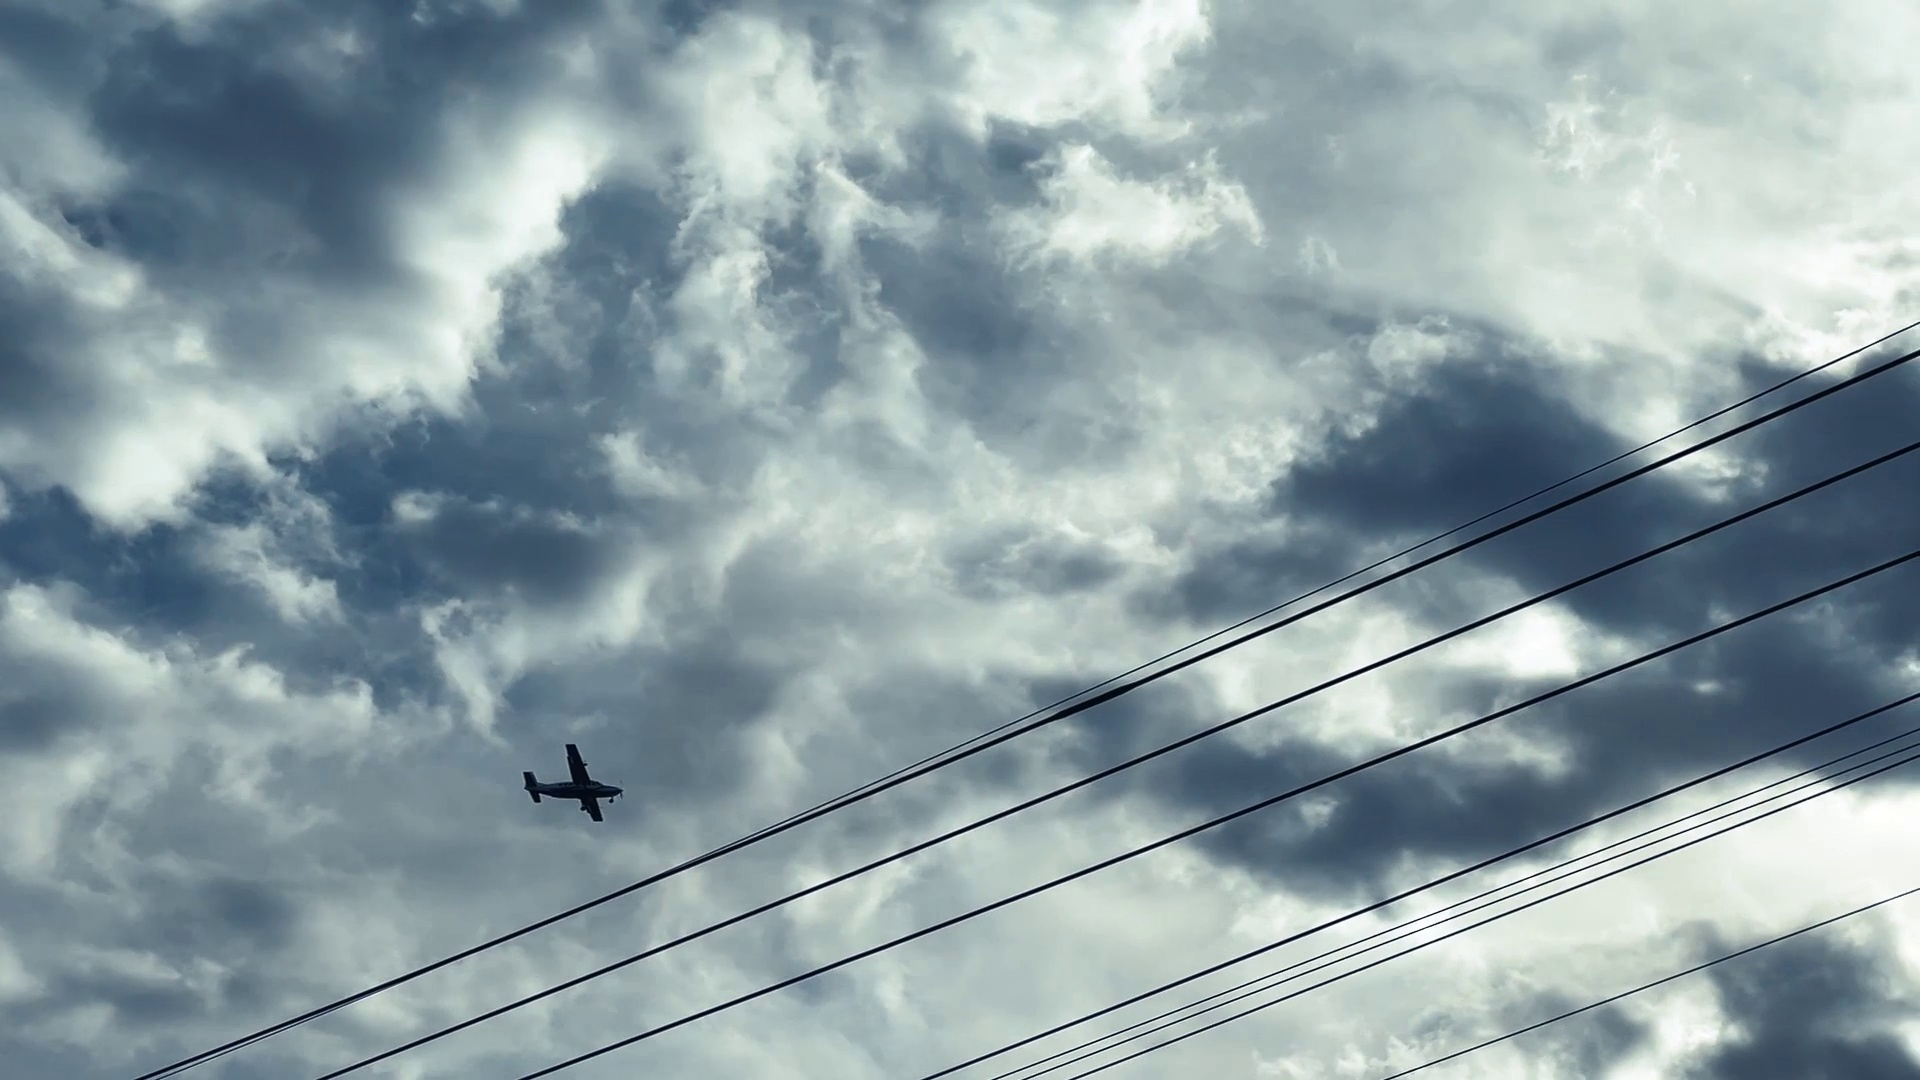plane: (524, 742, 622, 822)
